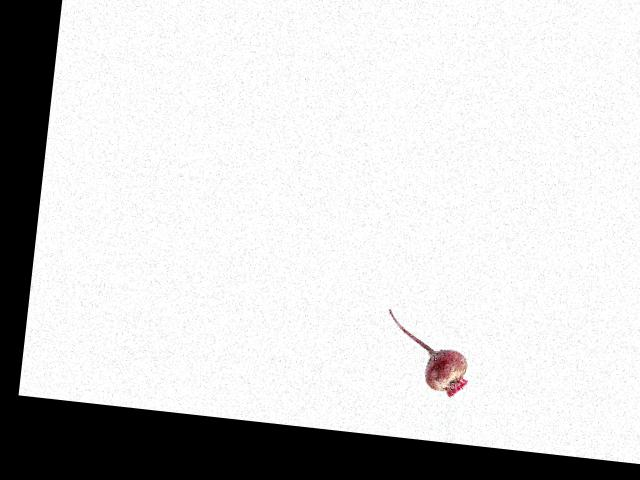beet: (379, 309, 474, 398)
